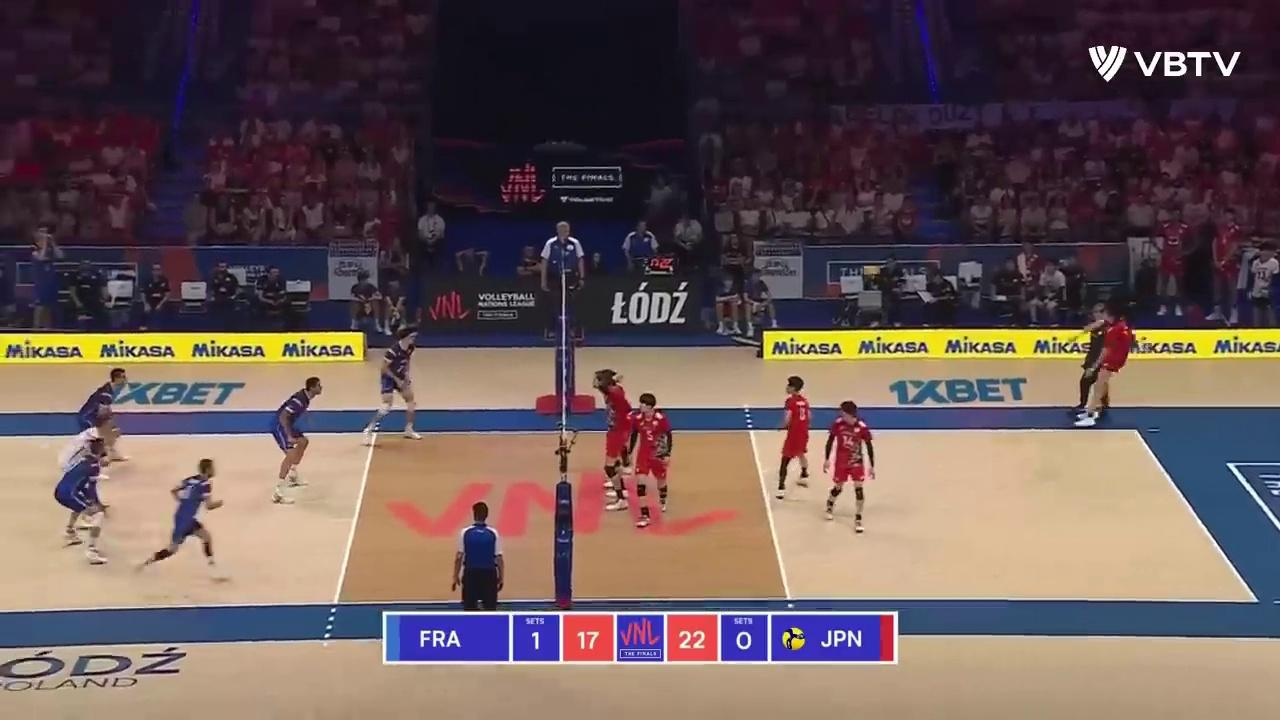ball: (862, 266, 878, 276)
